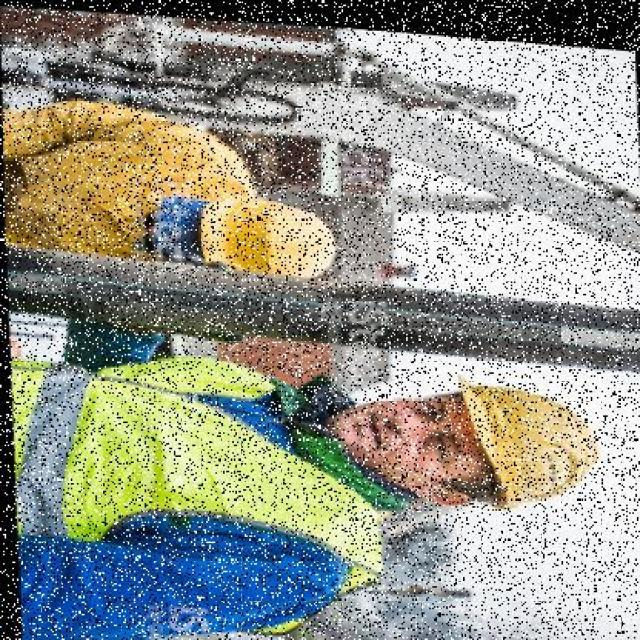helmet: (449, 357, 603, 515)
vest: (22, 334, 369, 587)
